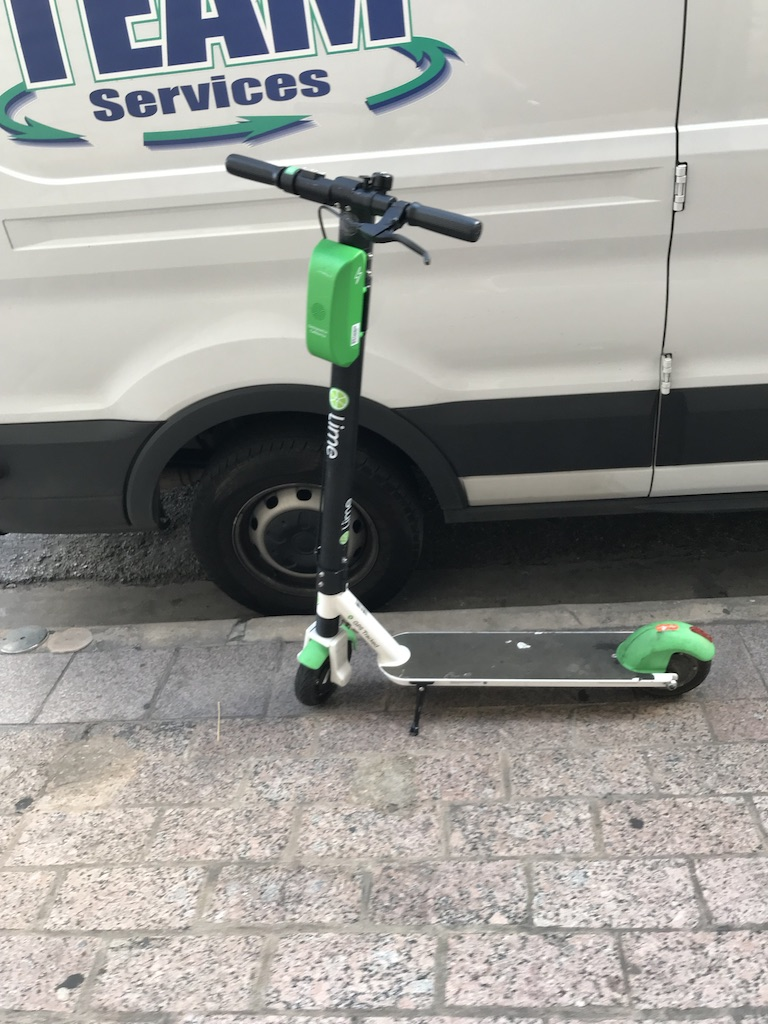scooter: (223, 152, 720, 708)
